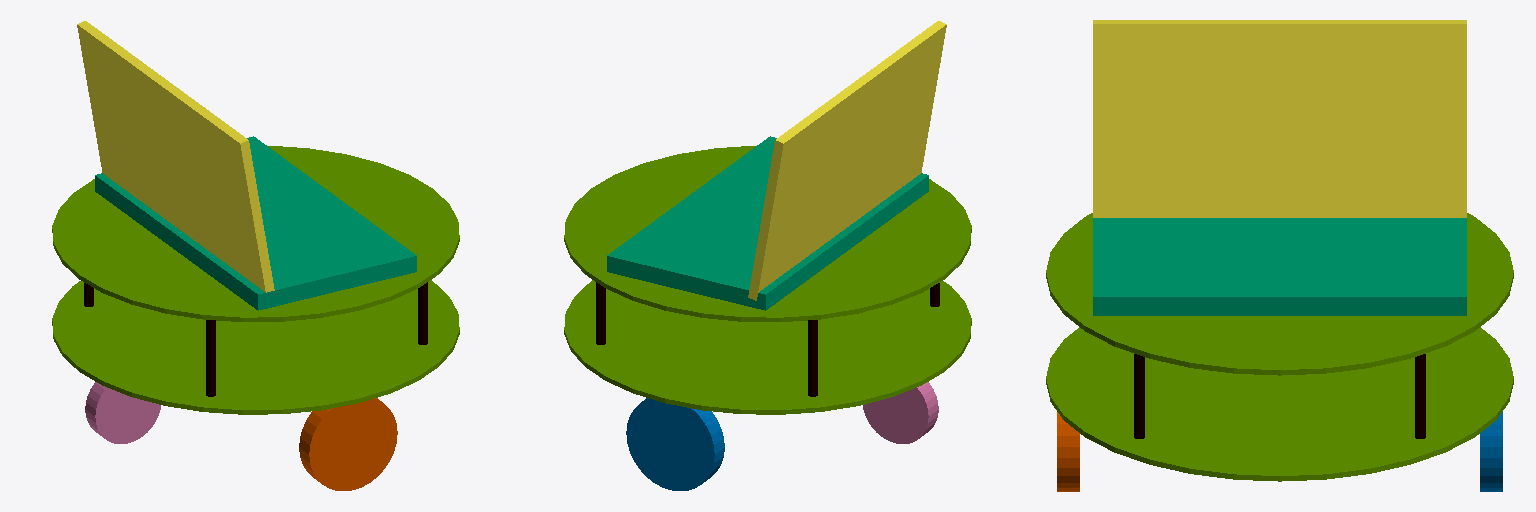
robot.urdf — patrick_the_robot:
<?xml version="1.0"?>
<!-- Author: [author] -->
<robot name="patrick_the_robot">
  <link name="base_link">
    <visual>
      <geometry>
        <cylinder length="0.005" radius="0.2"/>
      </geometry>
      <material name="green">
          <color rgba="0.4 0.6 0 1"/>
      </material>
    </visual>
  </link>

  <link name="base_laser">
    <visual>
      <geometry>
        <mesh filename="package://turtlebot_description/meshes/sensors/kinect.dae"/>
      </geometry>
    <origin rpy="0 0 1.5708"/>
    </visual>
  </link>  
  
  <link name="laptop_hor">
    <visual>
      <geometry>
        <box size="0.32 0.18 0.02"/>
      </geometry>
    <origin rpy="0 0 1.5708"/>
      <material name="white"/>
         <color rgba="1 1 1 1"/>
      <material/>        
    </visual>
  </link>
  
  <link name="laptop_ver">
    <visual>
      <geometry>
        <box size="0.32 0.18 0.01"/>
      </geometry>
    <origin rpy="1.4 0 1.5708"/>
        <material name="white_xxx"/>
          <color rgba="0 0 0 1"/>
        <material/>        
    </visual>
  </link>
  
  <link name="left_wheel">
    <visual>
      <geometry>
        <cylinder length="0.02" radius="0.05"/>
      </geometry>
    <origin rpy="0 1.5708 1.5708" xyz="0 0 0"/>
        <material name="blue_dark"/>
          <color rgba="0.3333 0.3333 0.498 1"/>
        <material/>        
    </visual>
  </link>
  
  <link name="right_wheel">
    <visual>
      <geometry>
        <cylinder length="0.02" radius="0.05"/>
      </geometry>
    <origin rpy="0 1.5708 1.5708" xyz="0 0 0"/>
        <material name="blue_dark"/>
          <color rgba="0.3333 0.3333 0.498 1"/>
        <material/>        
    </visual>
  </link>  
  
  <link name="small_wheel">
    <visual>
      <geometry>
        <cylinder length="0.02" radius="0.0375"/>
      </geometry>
    <origin rpy="0 1.5708 1.5708" xyz="0 0 0"/>
        <material name="blue_dark"/>
          <color rgba="0.3333 0.3333 0.498 1"/>
        <material/>        
    </visual>
  </link>
  
  <link name="pillar_small_wheel">
    <visual>
      <geometry>
        <cylinder length="0.0125" radius="0.03"/>
      </geometry>
      <material name="black_slightly">
        <color rgba="0.123 0 0 1"/>
      </material>
    </visual>
  </link>
  
  <link name="base_link_2">
    <visual>
      <geometry>
        <cylinder length="0.005" radius="0.2"/>
      </geometry>
      <material name="green">
      </material>
    </visual>
  </link>
  
  <link name="pillar_1">
    <visual>
      <geometry>
        <cylinder length="0.1" radius="0.005"/>
      </geometry>
      <material name="black_slightly">
        <color rgba="0.123 0 0 1"/>
      </material>
    </visual>
  </link>
  
  <link name="pillar_2">
    <visual>
      <geometry>
        <cylinder length="0.1" radius="0.005"/>
      </geometry>
      <material name="black_slightly">
        <color rgba="0.123 0 0 1"/>
      </material>
    </visual>
  </link>
  
  <link name="pillar_3">
    <visual>
      <geometry>
        <cylinder length="0.1" radius="0.005"/>
      </geometry>
      <material name="black_slightly">
        <color rgba="0.123 0 0 1"/>
      </material>
    </visual>
  </link>
  
  <link name="pillar_4">
    <visual>
      <geometry>
        <cylinder length="0.1" radius="0.005"/>
      </geometry>
      <material name="black_slightly">
        <color rgba="0.123 0 0 1"/>
      </material>
    </visual>
  </link>

  <joint name="base_to_left_wheel" type="fixed">
    <parent link="base_link"/>
    <child link="left_wheel"/>
    <origin xyz="0 0.181 -0.05"/>
  </joint>
  
  <joint name="base_to_right_wheel" type="fixed">
    <parent link="base_link"/>
    <child link="right_wheel"/>
    <origin xyz="0 -0.181 -0.05"/>
  </joint>
  
  <joint name="base_to_small_wheel" type="fixed">
    <parent link="base_link"/>
    <child link="small_wheel"/>
    <origin xyz="-0.15 0 -0.05"/>
  </joint>
  
  <joint name="base_to_small_wheel_and_pillar_small_wheel" type="fixed">
    <parent link="base_link"/>
    <child link="pillar_small_wheel"/>
    <origin xyz="-0.15 0 -0.00625"/>
  </joint>
  
  <joint name="base_to_laser" type="fixed">
    <parent link="base_link"/>
    <child link="base_laser"/>
    <origin xyz="0.075 0 0.035"/>
  </joint>
  
  <joint name="base_to_laptop_hor" type="fixed">
    <parent link="base_link"/>
    <child link="laptop_hor"/>
    <origin xyz="0 0 0.11"/>
  </joint>
  
  <joint name="base_to_laptop_ver" type="fixed">
    <parent link="base_link"/>
    <child link="laptop_ver"/>
    <origin xyz="-0.09 0 0.2"/>
  </joint>
  
  <joint name="base_to_base" type="fixed">
    <parent link="base_link"/>
    <child link="base_link_2"/>
    <origin xyz="0 0 0.1"/>
  </joint>
  
  <joint name="base_to_pillar_1" type="fixed">
    <parent link="base_link"/>
    <child link="pillar_1"/>
    <origin xyz="0.12 0.12 0.05"/>
  </joint>
  
  <joint name="base_to_pillar_2" type="fixed">
    <parent link="base_link"/>
    <child link="pillar_2"/>
    <origin xyz="-0.12 0.12 0.05"/>
  </joint>
  
  <joint name="base_to_pillar_3" type="fixed">
    <parent link="base_link"/>
    <child link="pillar_3"/>
    <origin xyz="0.12 -0.12 0.05"/>
  </joint>
  
  <joint name="base_to_pillar_4" type="fixed">
    <parent link="base_link"/>
    <child link="pillar_4"/>
    <origin xyz="-0.12 -0.12 0.05"/>
  </joint>

</robot>

--- Render facts (derived) ---
3 views of the same robot in one strip: view 1: azimuth 30°, elevation 25°; view 2: azimuth 150°, elevation 25°; view 3: azimuth 270°, elevation 25° (orthographic).
Robot: patrick_the_robot — 13 links, 12 joints (12 fixed); root link base_link; default pose: every joint at zero.
Visible links, largest first — view 1: base_link, base_link_2, laptop_ver, laptop_hor, right_wheel, small_wheel, pillar_4, pillar_3; view 2: base_link, base_link_2, laptop_ver, laptop_hor, left_wheel, small_wheel, pillar_2, pillar_1; view 3: laptop_ver, base_link, laptop_hor, base_link_2, left_wheel, right_wheel, pillar_1, pillar_3.
Link boxes in pixels (bbox=[...]): base_link: bbox=[52, 280, 459, 414]; base_link_2: bbox=[52, 146, 459, 321]; laptop_ver: bbox=[77, 21, 274, 292]; laptop_hor: bbox=[95, 136, 416, 310]; right_wheel: bbox=[299, 398, 397, 490]; small_wheel: bbox=[85, 382, 160, 443]; pillar_4: bbox=[206, 320, 215, 396]; pillar_3: bbox=[418, 282, 427, 344]; base_link: bbox=[564, 280, 971, 414]; base_link_2: bbox=[564, 146, 971, 321]; laptop_ver: bbox=[748, 21, 946, 300]; laptop_hor: bbox=[607, 136, 928, 310]; left_wheel: bbox=[626, 398, 724, 490]; small_wheel: bbox=[863, 382, 938, 443]; pillar_2: bbox=[808, 320, 817, 396]; pillar_1: bbox=[596, 282, 605, 344]; laptop_ver: bbox=[1093, 20, 1466, 217]; base_link: bbox=[1046, 327, 1513, 481]; laptop_hor: bbox=[1093, 218, 1466, 315]; base_link_2: bbox=[1046, 213, 1513, 375]; left_wheel: bbox=[1480, 412, 1502, 491]; right_wheel: bbox=[1057, 412, 1079, 491]; pillar_1: bbox=[1415, 354, 1425, 438]; pillar_3: bbox=[1134, 354, 1144, 438].
Bounding box of the posed robot: 0.4 × 0.4 × 0.3895 m (x, y, z).
Meshes: 1 distinct files referenced, 0 mesh visuals loaded (none loaded); not drawn: 1 (reference not matched to a file when rendering).
